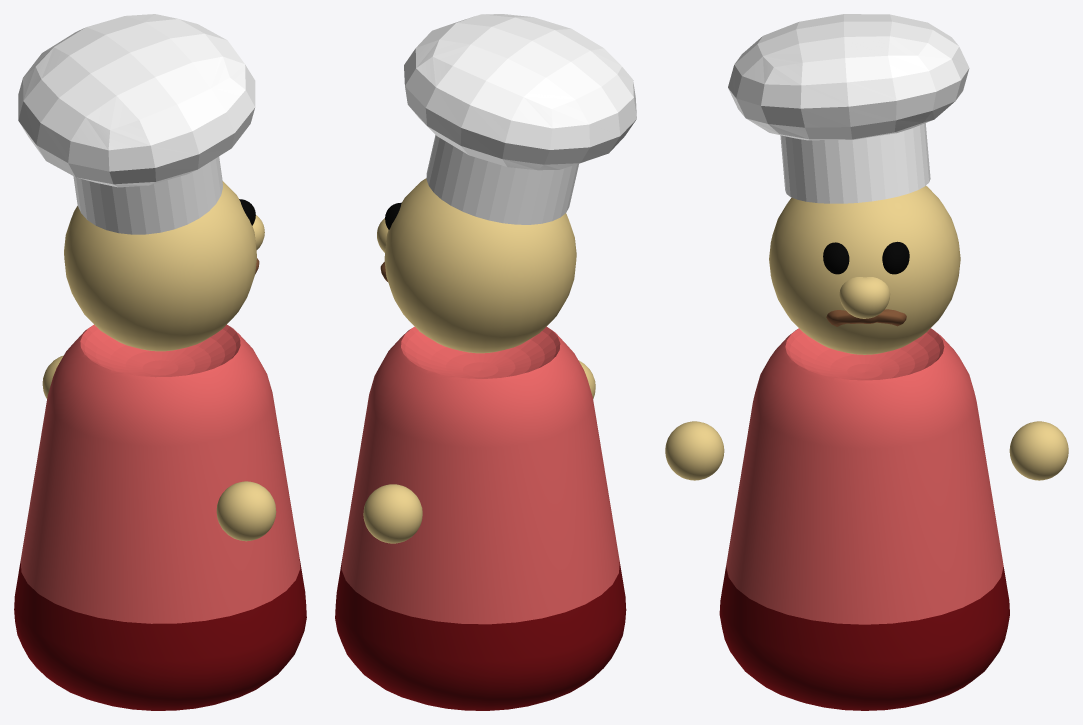
File: Pizzaiolo-Rouge.glb
3 renders of one model, left to right at view 1: azimuth 30°, elevation 25°; view 2: azimuth 150°, elevation 25°; view 3: azimuth 270°, elevation 25°, orthographic.
Parts seen in each view (by area): view 1: Body, Cube, Head, Cylinder, Bras_G.001; view 2: Body, Cube, Head, Cylinder, Bras_G.002; view 3: Body, Cube, Head, Cylinder, Bras_G.001, Bras_G.002, Nez, Moustache, Sphere.007, Sphere.006.
Part boxes in pixels (bbox=[...]): Body: bbox=[14, 324, 306, 710]; Cube: bbox=[18, 14, 255, 187]; Head: bbox=[64, 181, 256, 351]; Cylinder: bbox=[73, 156, 222, 234]; Bras_G.001: bbox=[216, 481, 276, 541]; Body: bbox=[335, 326, 626, 710]; Cube: bbox=[404, 14, 636, 170]; Head: bbox=[384, 178, 576, 353]; Cylinder: bbox=[426, 135, 578, 224]; Bras_G.002: bbox=[363, 484, 422, 543]; Body: bbox=[719, 328, 1009, 710]; Cube: bbox=[728, 14, 969, 140]; Head: bbox=[769, 186, 960, 354]; Cylinder: bbox=[780, 123, 930, 203]; Bras_G.001: bbox=[665, 421, 724, 480]; Bras_G.002: bbox=[1009, 421, 1068, 480]; Nez: bbox=[839, 277, 890, 318]; Moustache: bbox=[826, 309, 906, 326]; Sphere.007: bbox=[882, 241, 909, 274]; Sphere.006: bbox=[823, 242, 849, 274].
Bounding box in the file's own units: 1.9 × 4.48 × 2.59.
